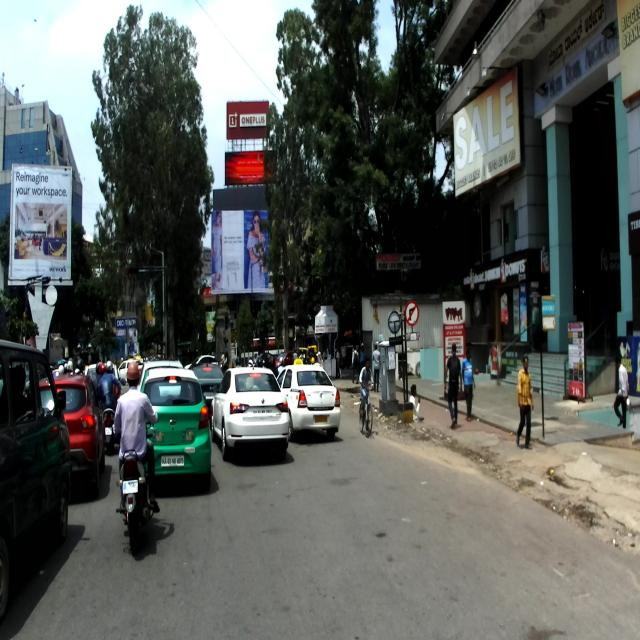car: (0, 335, 72, 626), (139, 365, 211, 494), (38, 374, 106, 499), (210, 366, 290, 462), (276, 357, 341, 442)
motorcycle: (115, 409, 158, 557)
